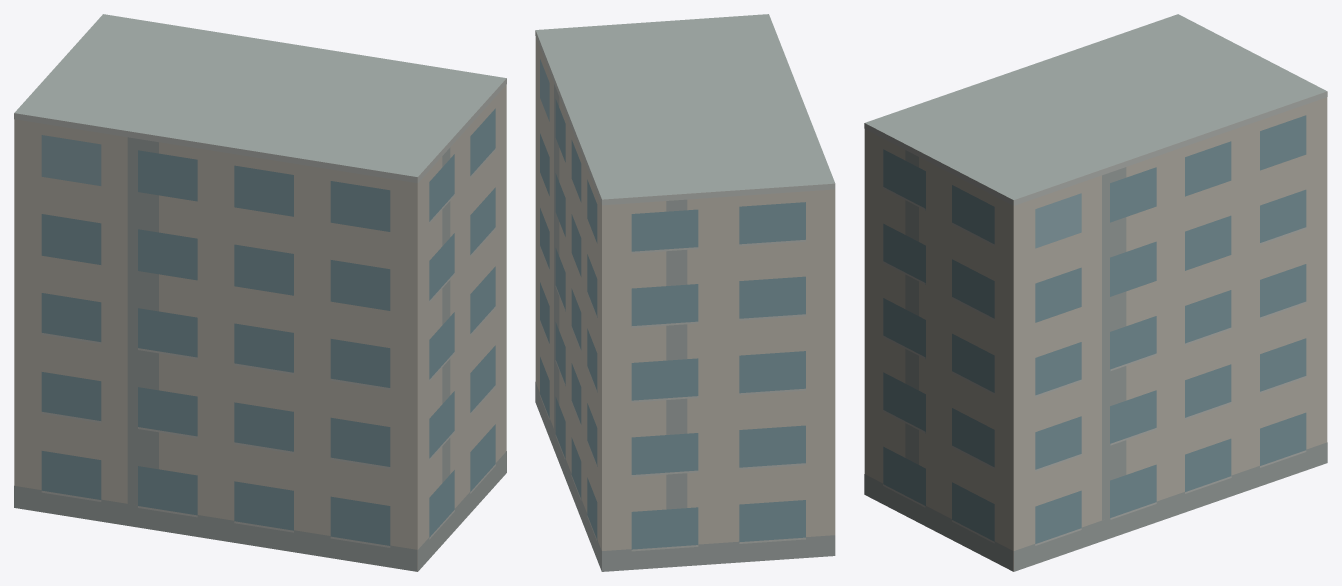
File: survey-upis-32846513.glb
The picture shows the model from 3 angles, left to right: view 1: azimuth 30°, elevation 25°; view 2: azimuth 150°, elevation 25°; view 3: azimuth 270°, elevation 25°; orthographic projection. The views are drawn at different scales.
Visible parts, largest first — view 1: survey-upis-32846513.tmp; view 2: survey-upis-32846513.tmp; view 3: survey-upis-32846513.tmp.
Part boxes in pixels (x1=…): survey-upis-32846513.tmp: x1=14, y1=14, x2=506, y2=571; survey-upis-32846513.tmp: x1=535, y1=14, x2=835, y2=571; survey-upis-32846513.tmp: x1=864, y1=14, x2=1327, y2=571.
Bounding box in the file's own units: 16.77 × 15.6 × 17.62.
